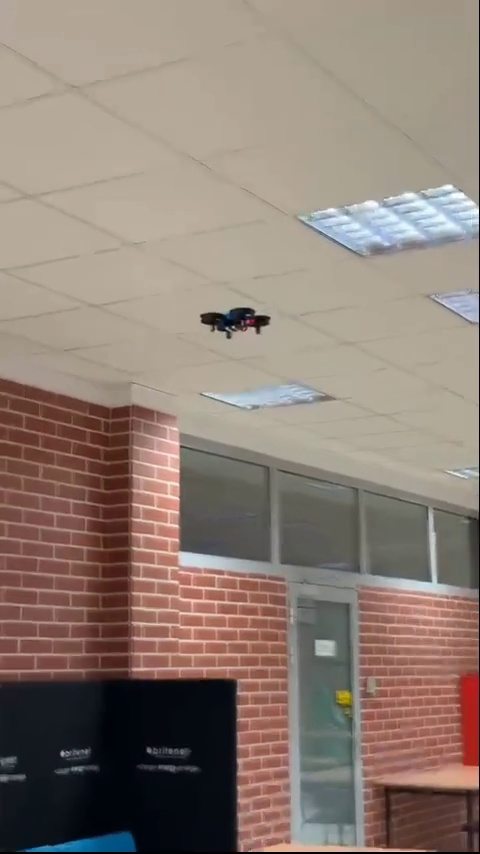drone: (199, 308, 267, 336)
